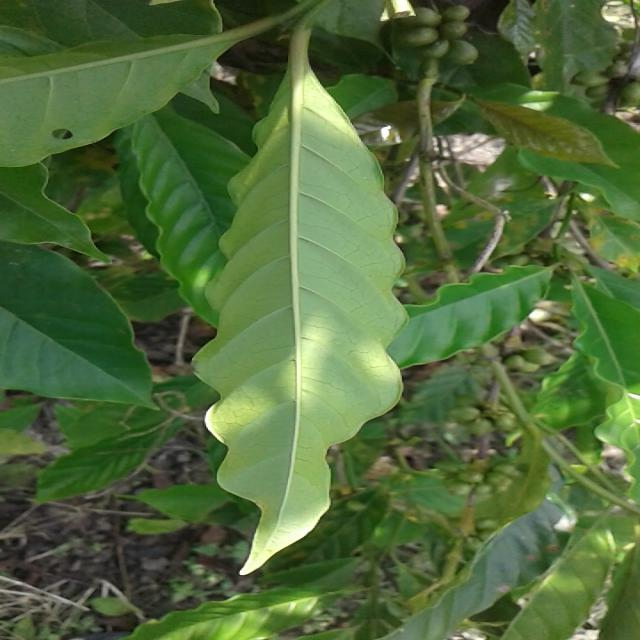Sanas: (193, 32, 409, 577)
